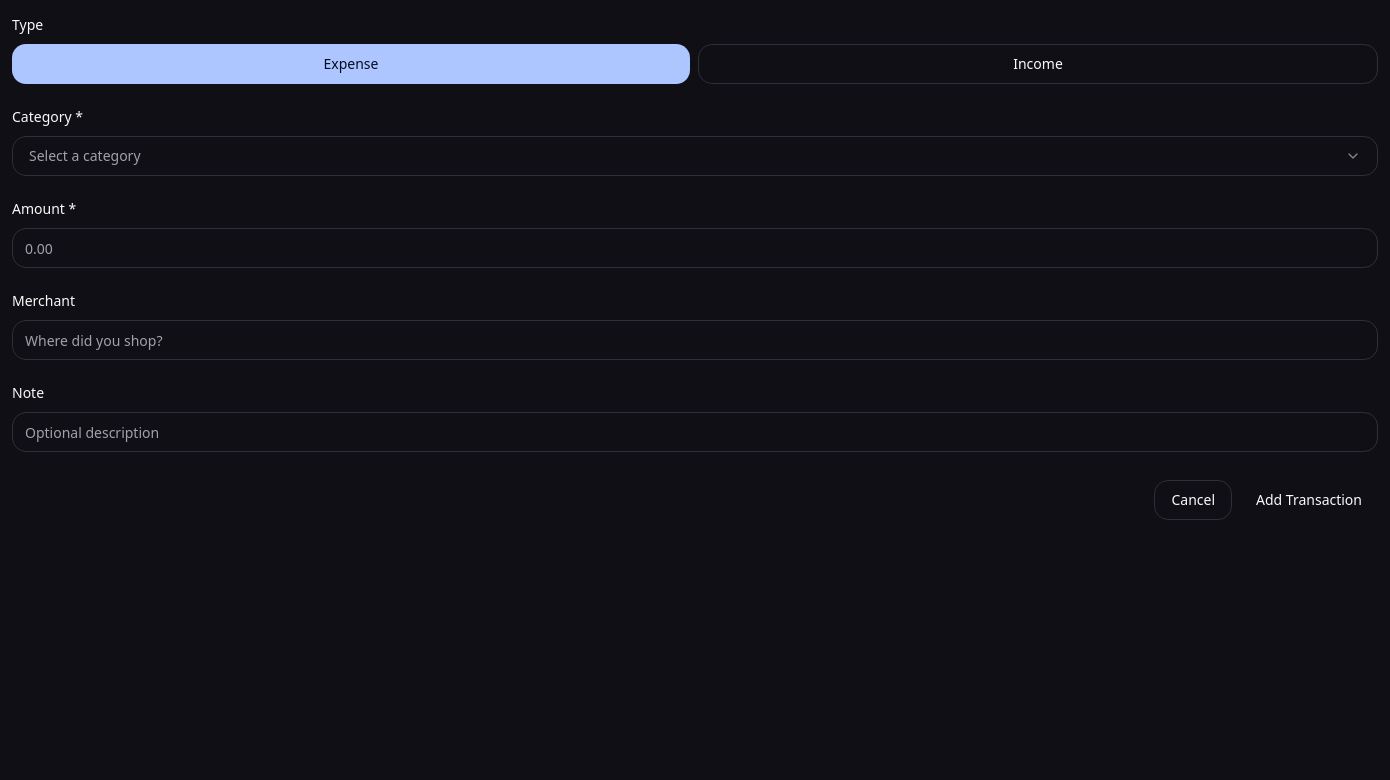
Test: TransactionForm › requires an amount greater than zero before saving
The image size is (1390, 780).
Step 1. Click the button with aria-label "category:" → [85, 156], box 12,136 -> 1378,176
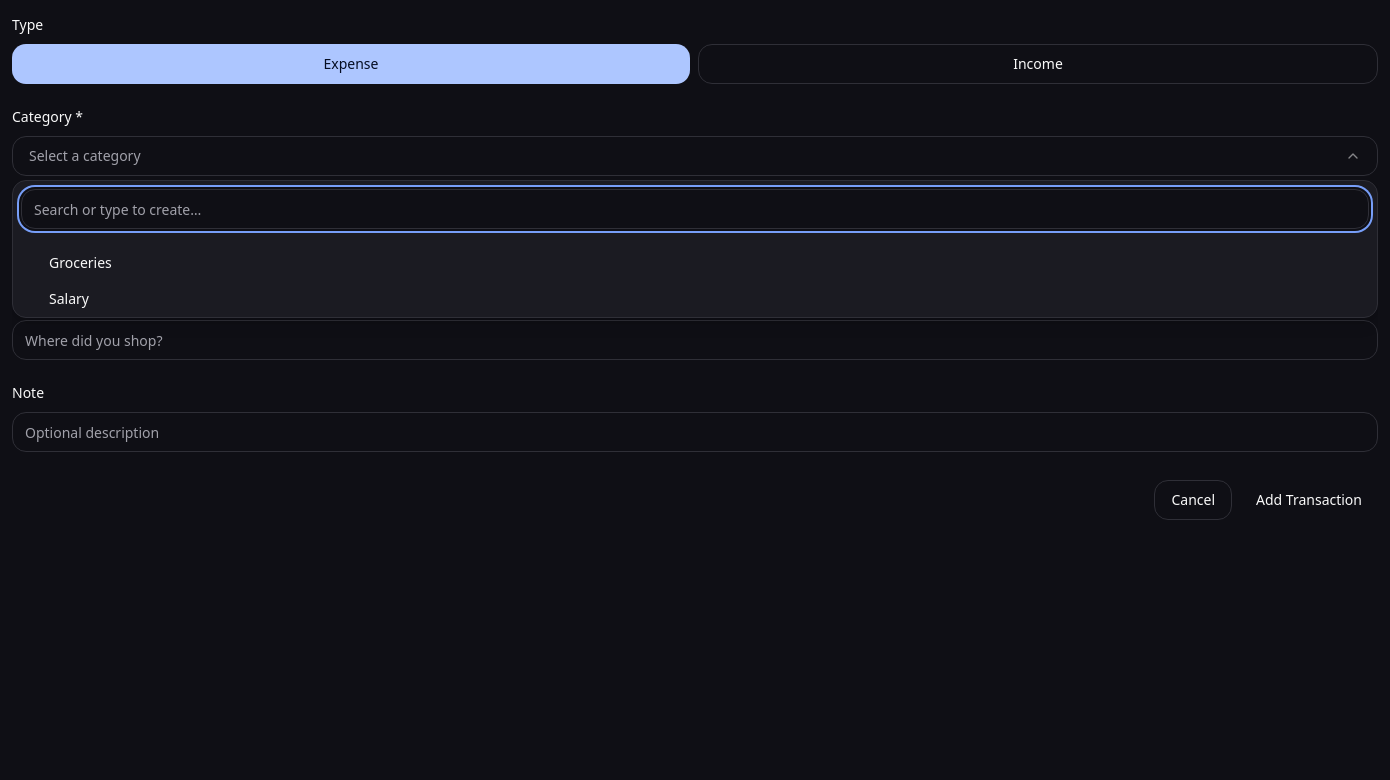
Step 2. Click the option "Groceries" → [80, 262], box 13,245 -> 1377,281
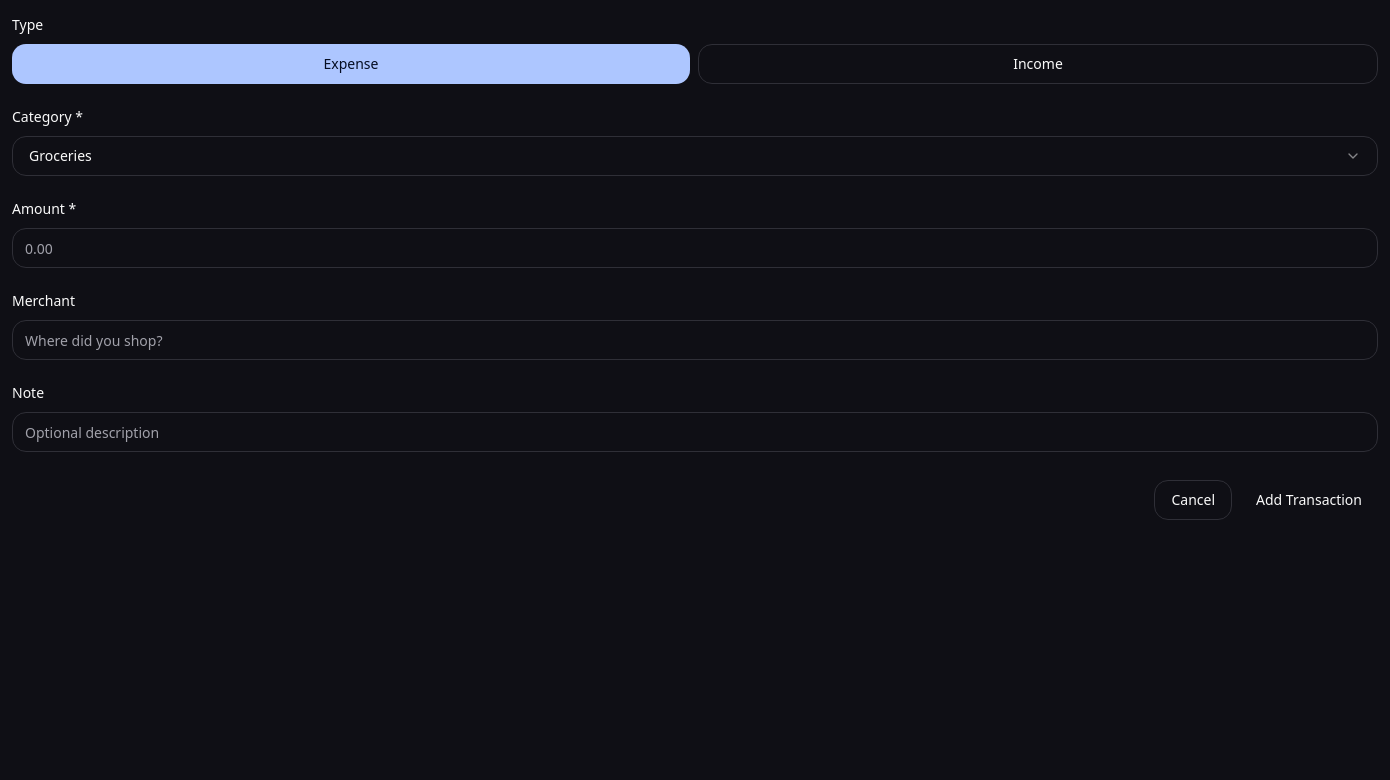
Step 3. Click the button "Add Transaction" → [1309, 500], box 1240,480 -> 1378,520
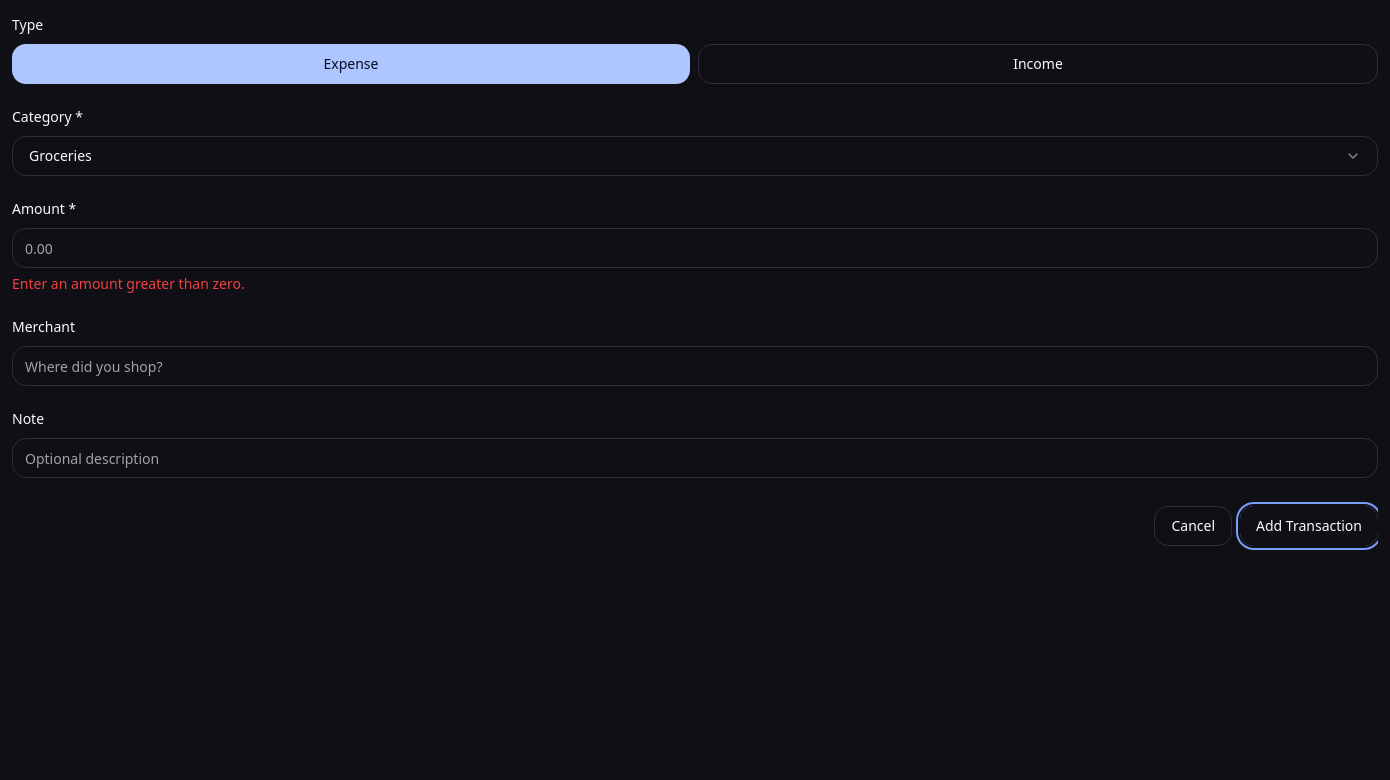
Now the text "Enter an amount greater than zero." is shown, box 12,274 -> 245,293
